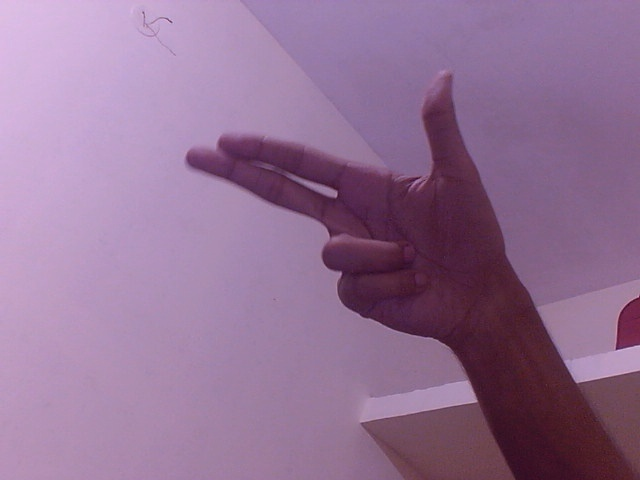hand: (181, 66, 514, 350)
